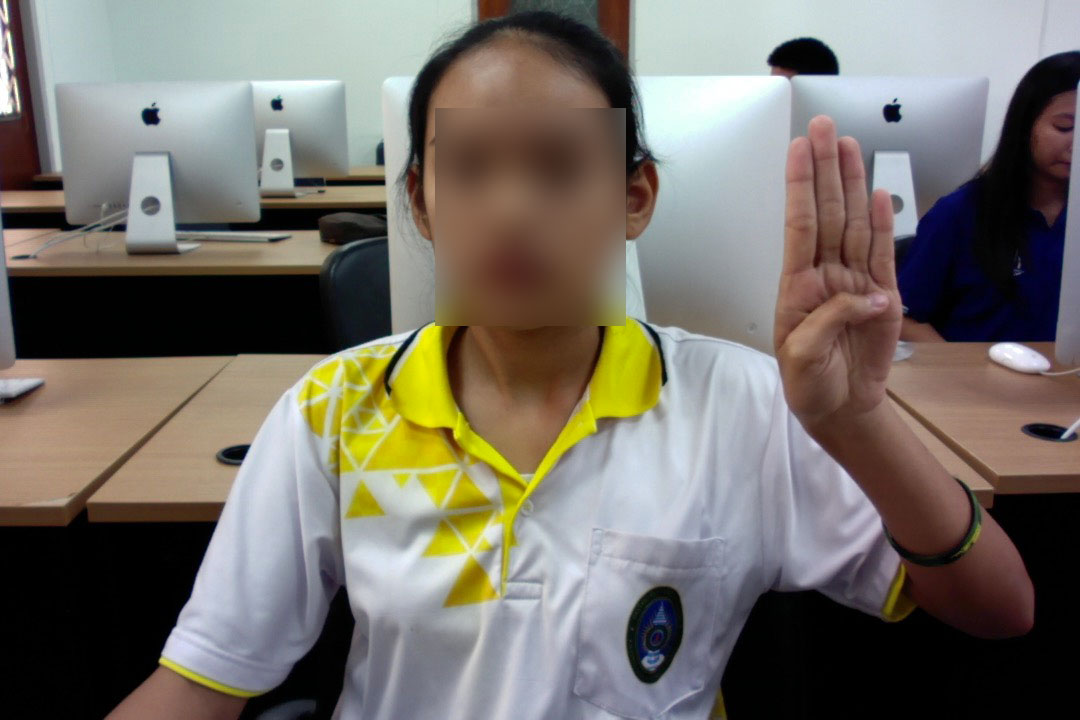bor: (766, 106, 923, 438)
